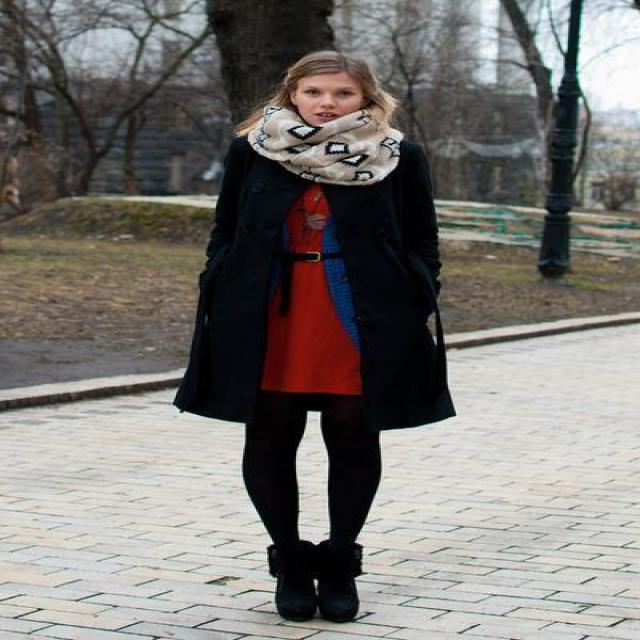dress: (258, 192, 386, 421)
jacket: (173, 141, 454, 431)
pants: (242, 412, 379, 543)
shoe: (268, 525, 366, 623)
